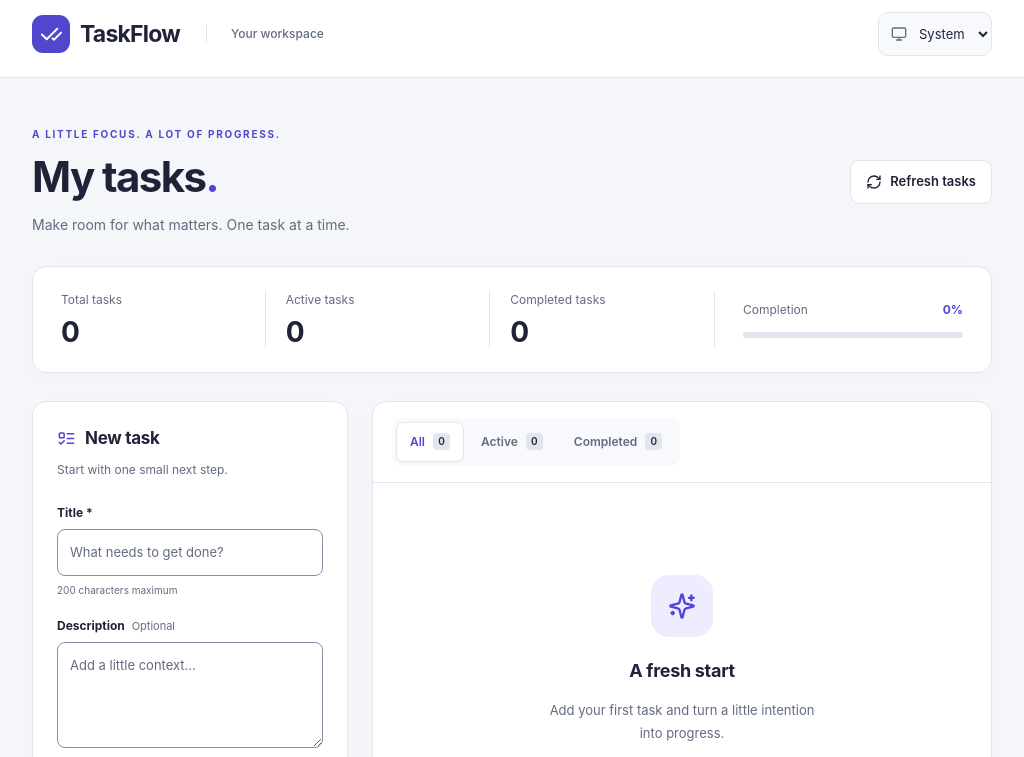
Scenario: Task workspace › creates a trimmed task and resets the form
This screenshot has width=1024, height=757.
In the field labelled "Title *": (190, 553) [57, 530, 323, 576], type "  A new task  "
(page scrolled)
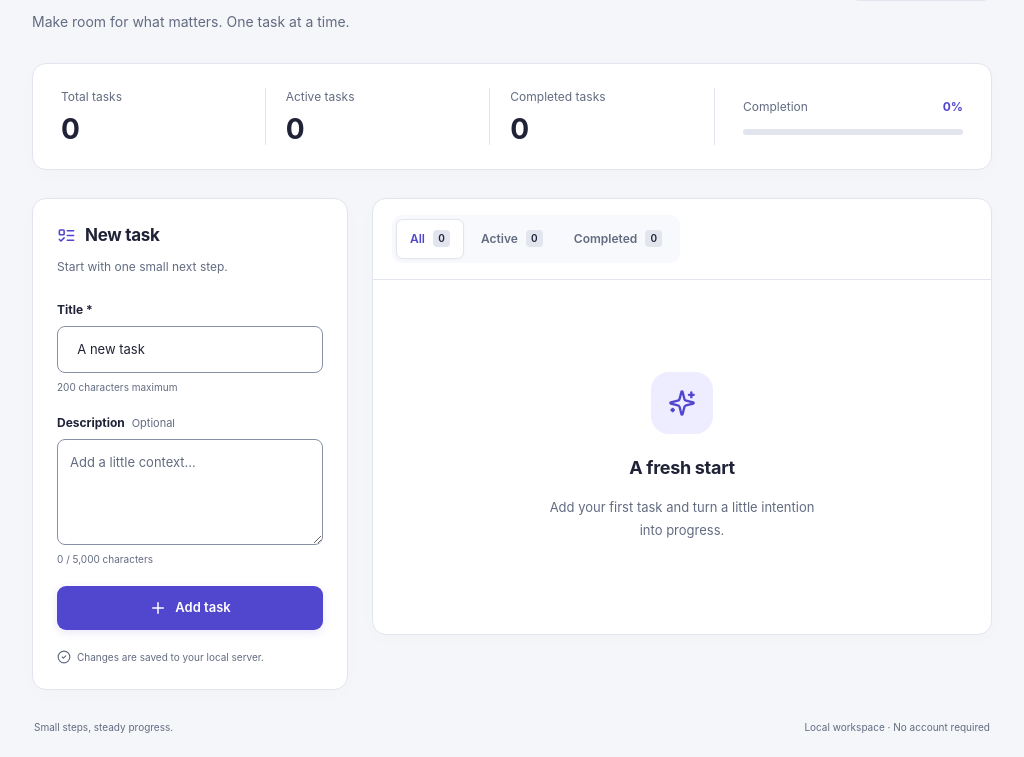
Submit the form named "Create task", box [57, 302, 323, 630]
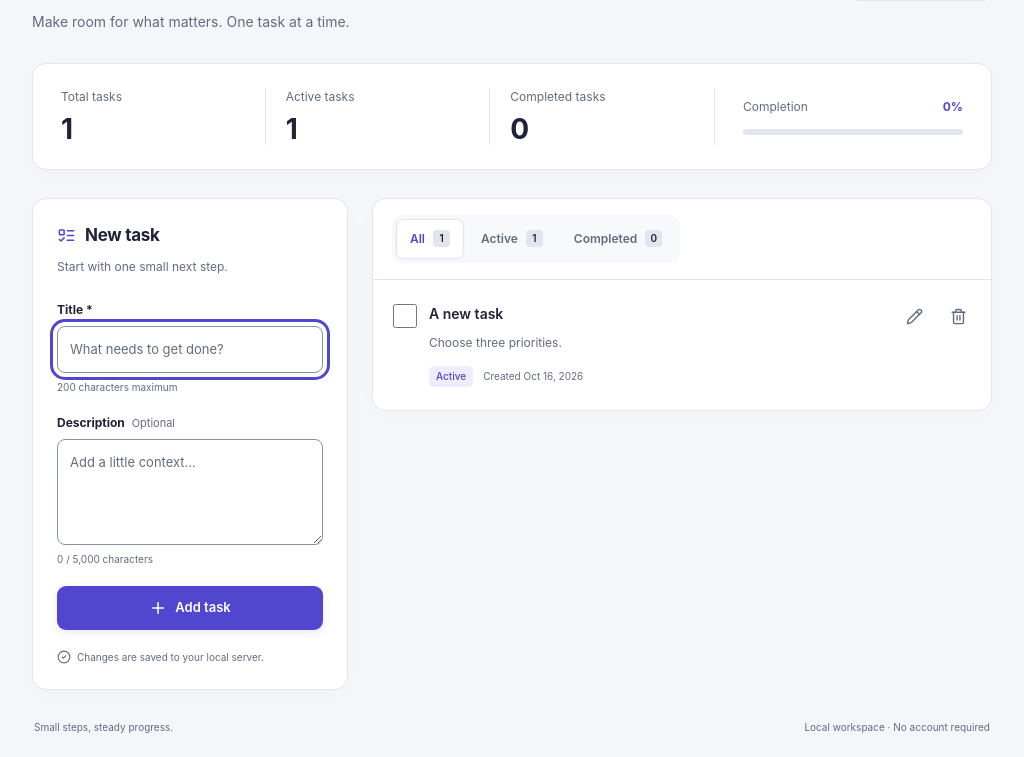
Now the heading "A new task" is shown, box [429, 305, 503, 322]
Now the field labelled "Title *" is empty, box [57, 326, 323, 373]
